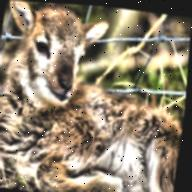boar: (51, 73, 187, 192), (0, 0, 98, 147)
